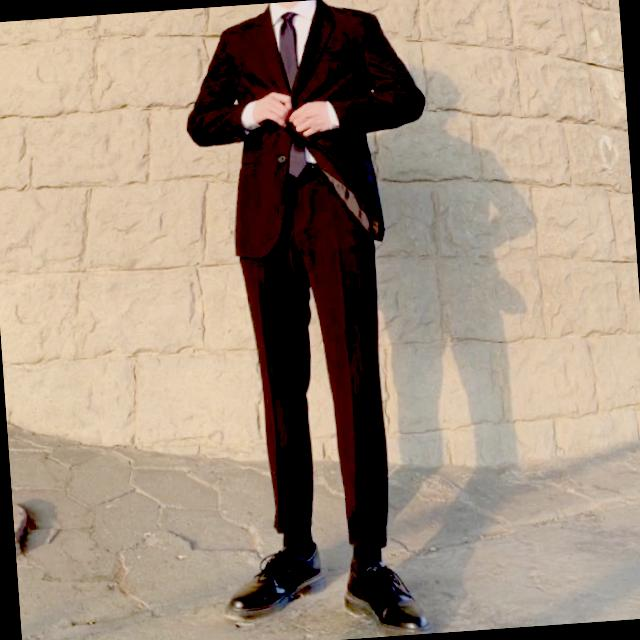blazer: (179, 0, 435, 261)
slacks: (233, 152, 394, 550)
